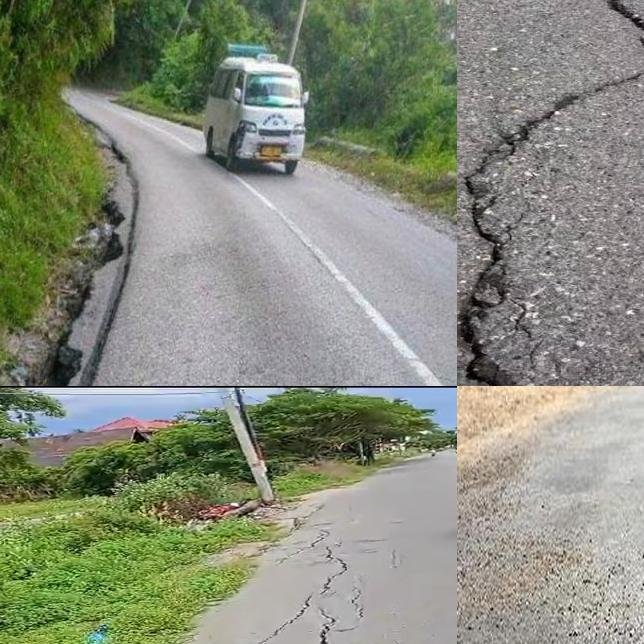Memanjang: (457, 0, 644, 386)
Pinggir: (22, 137, 145, 386)
